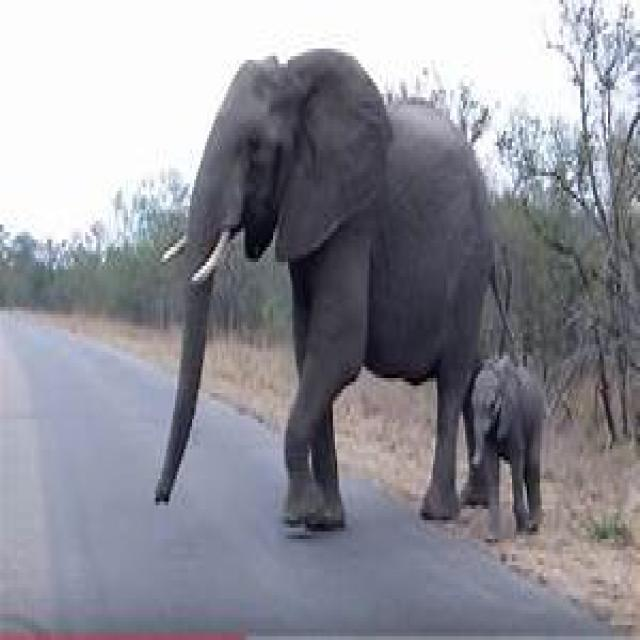elephant: (156, 49, 495, 539), (465, 356, 548, 535)
